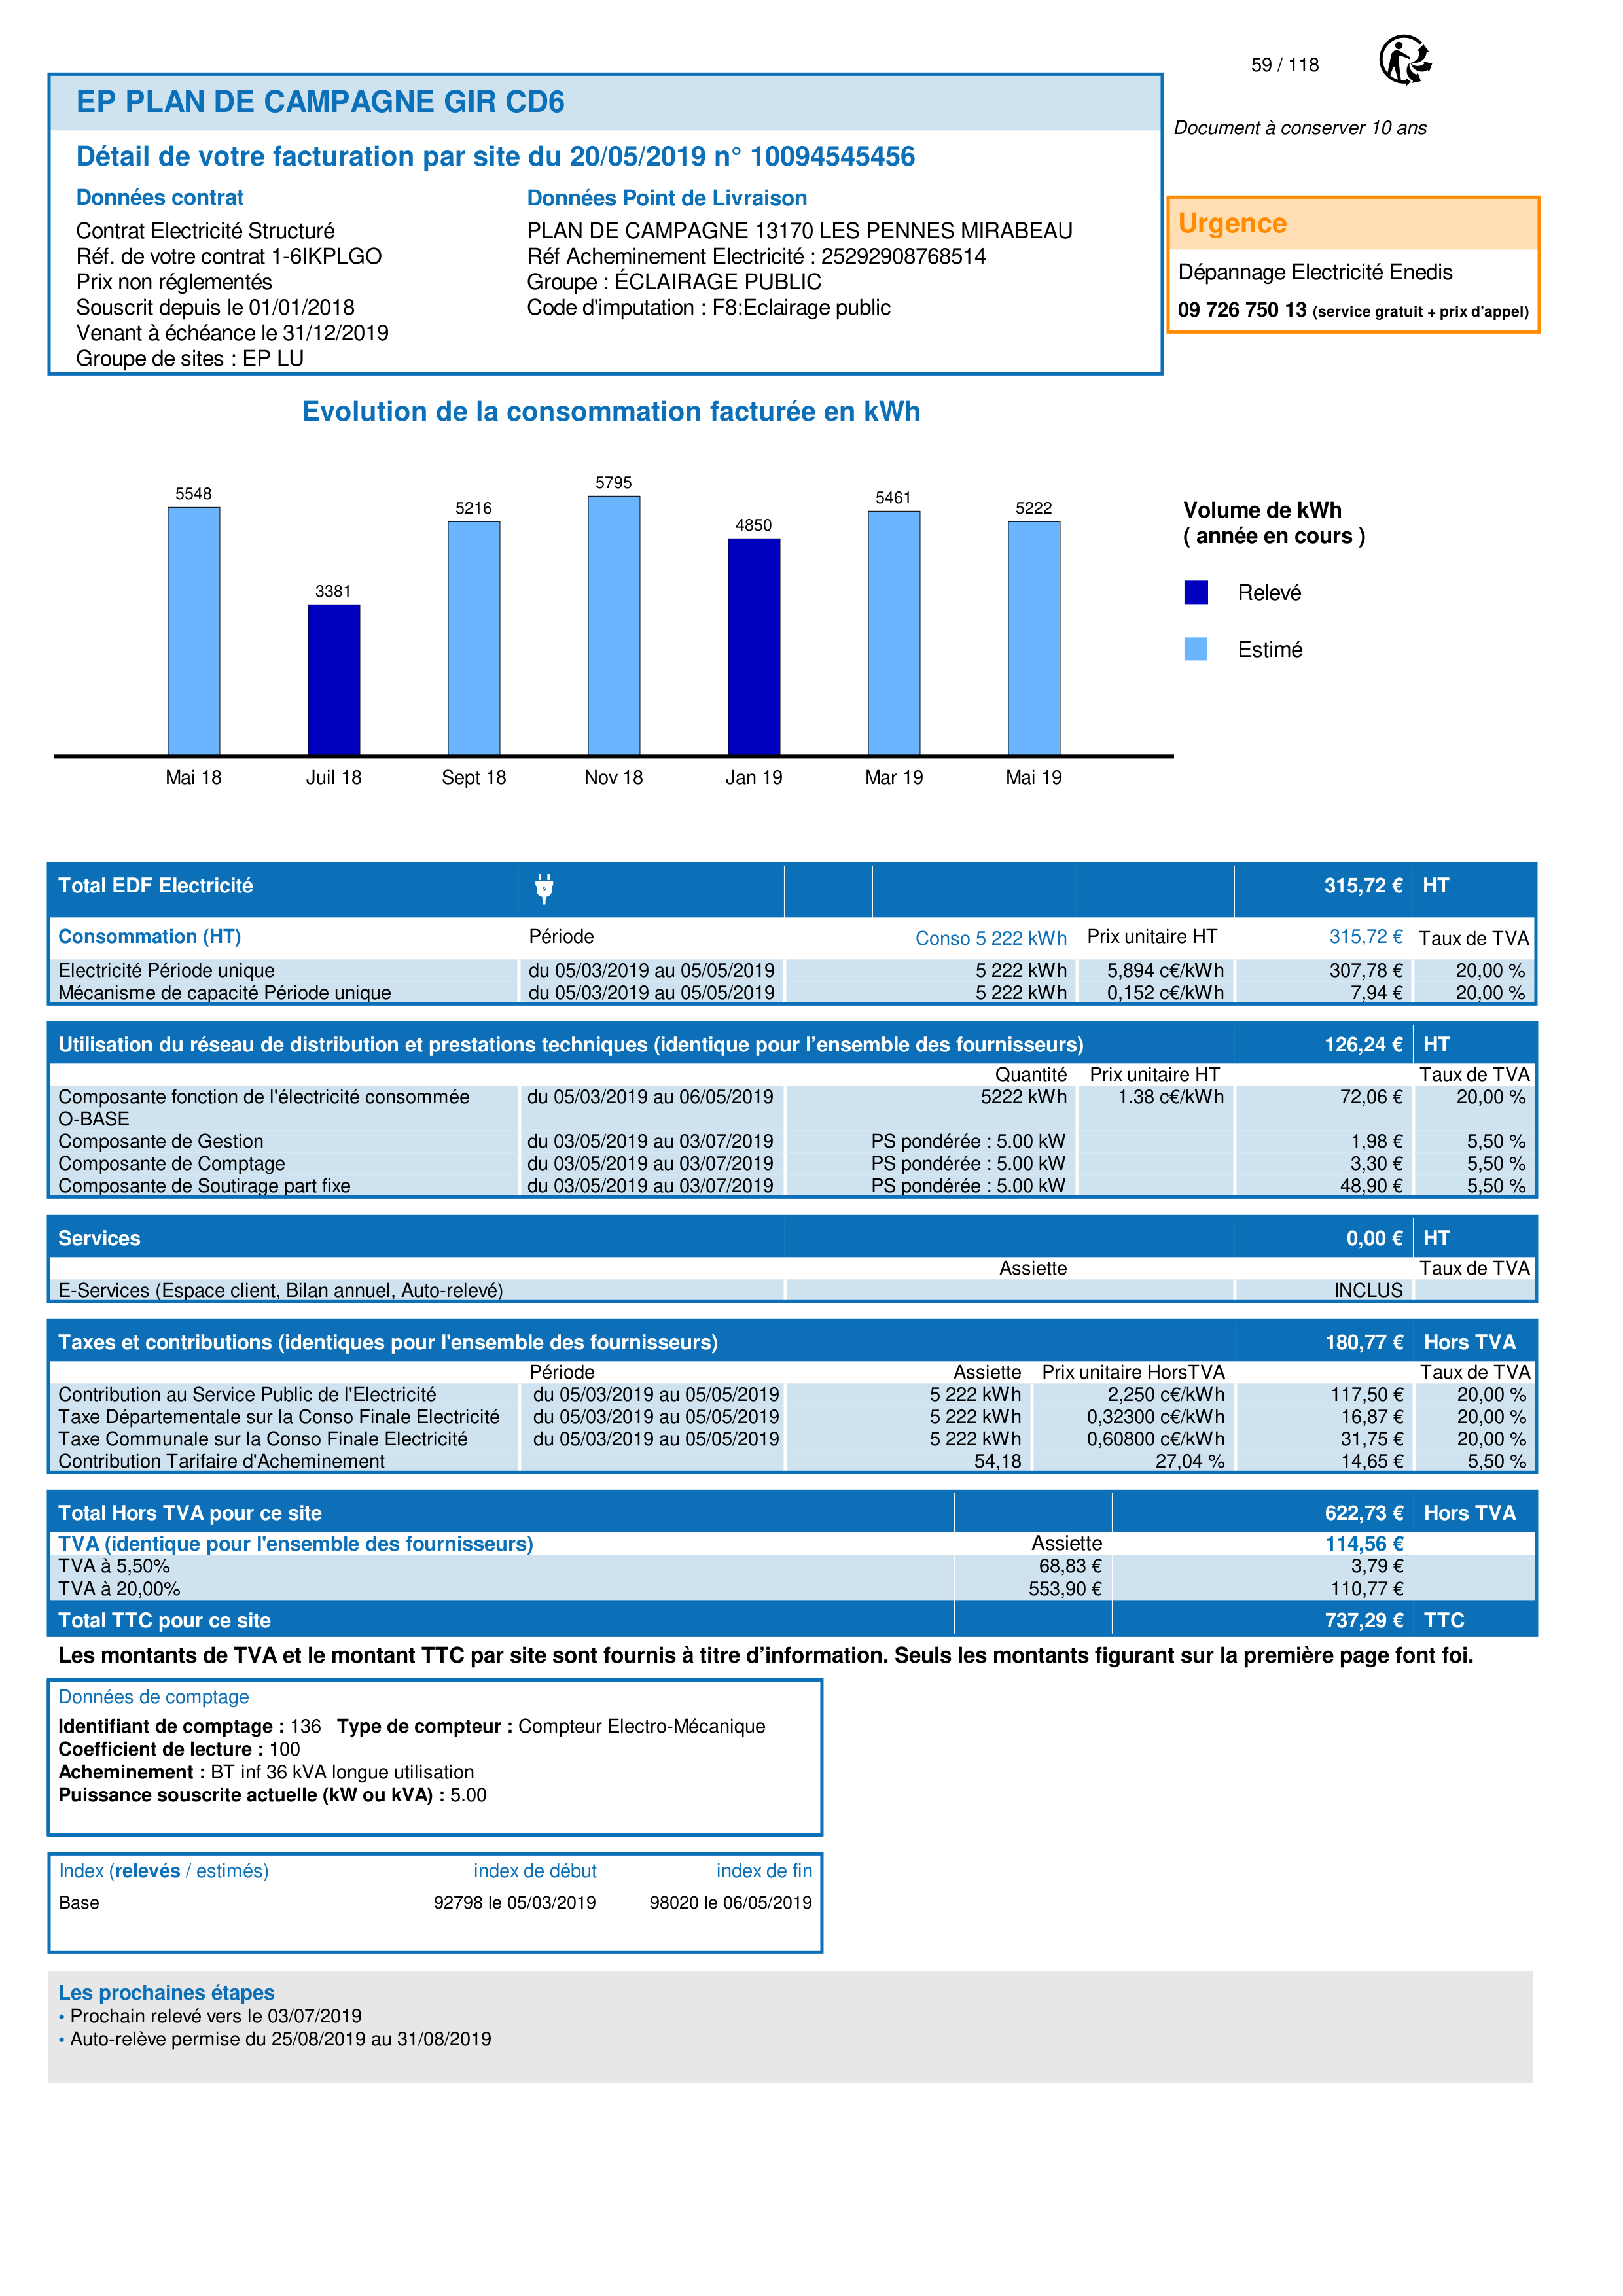area: (49, 1854, 822, 1954)
type_indicator: (48, 1853, 281, 1888)
